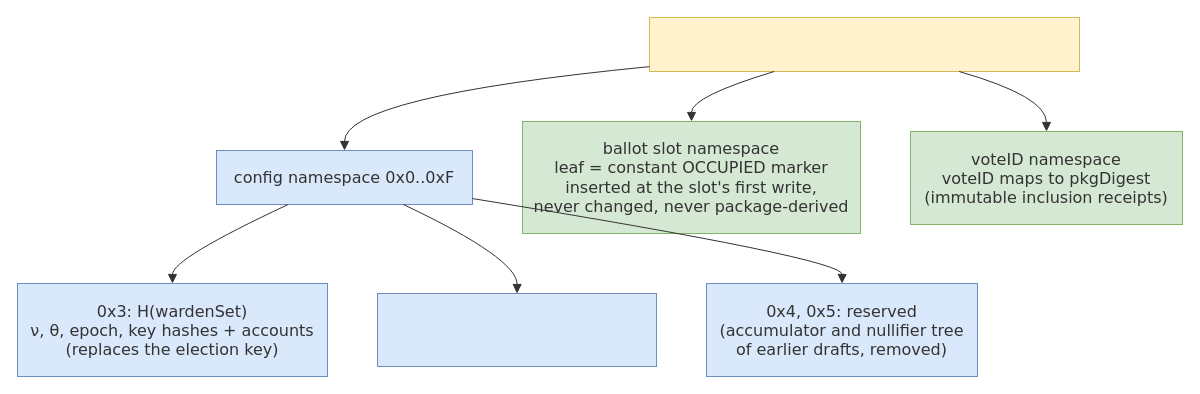
Some shapes in this 1200 by 394 pixel diagram are drawn without their labels. The box of each missing label's shape, as (x1, y1, x2, y2) in pixels:
0x8: viewsRoot per-warden column views (8.7): (376, 292, 656, 366)
stateRoot — Blake3 SMT, depth 64 (structure as v2): (648, 16, 1080, 72)
